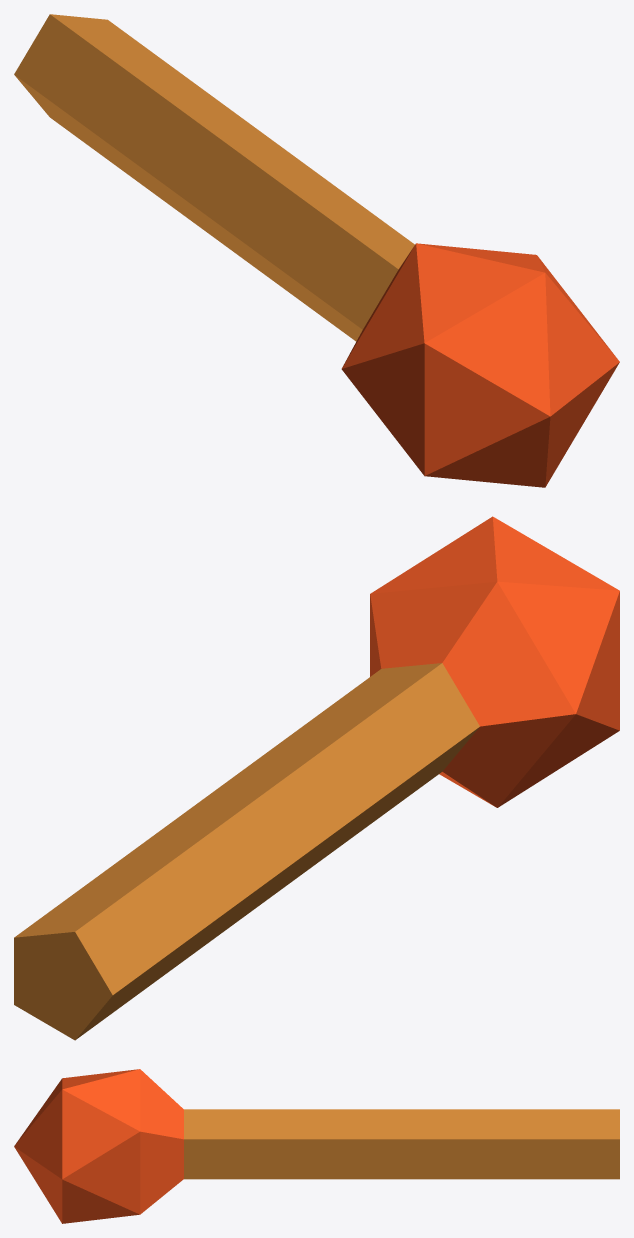
File: Match.fbx
The picture shows the model from 3 angles, top to bottom: view 1: azimuth 30°, elevation 25°; view 2: azimuth 150°, elevation 25°; view 3: azimuth 270°, elevation 25°; orthographic projection. The views are drawn at different scales.
Visible parts, largest first — view 1: Icosphere; view 2: Icosphere; view 3: Icosphere.
Part boxes in pixels (bbox=[...]): Icosphere: bbox=[14, 14, 619, 487]; Icosphere: bbox=[14, 516, 619, 1040]; Icosphere: bbox=[14, 1069, 619, 1223].
Bounding box in the file's own units: 179 × 170 × 695.
